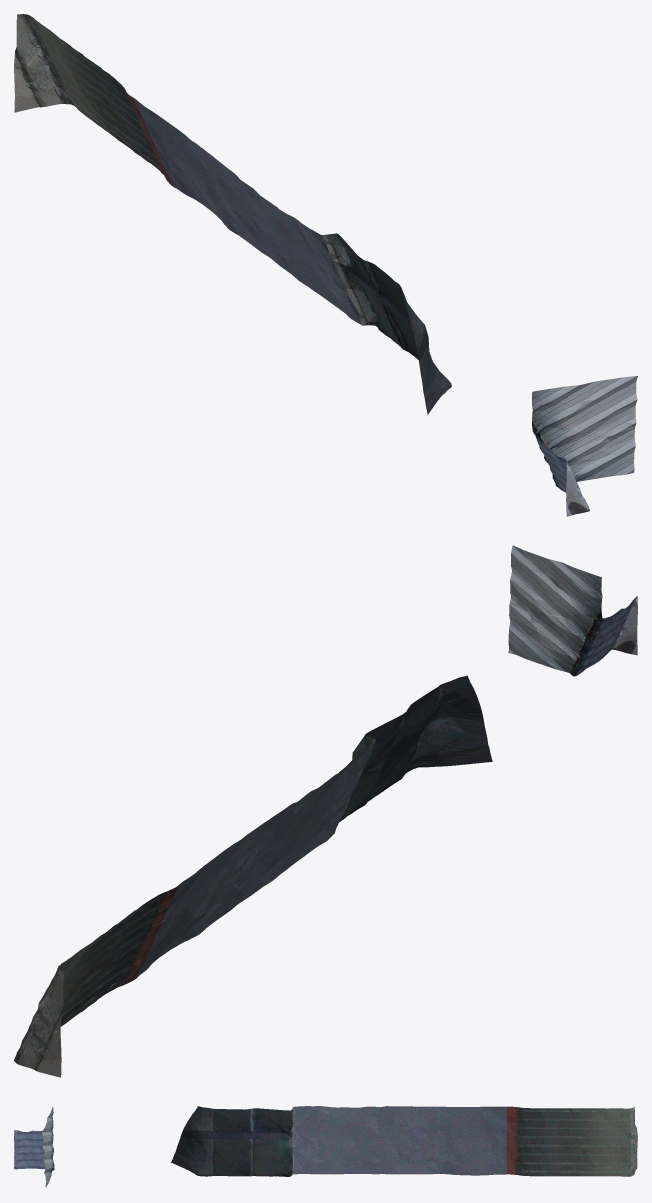
The model's file is Tile_+004_+006_L23_002310.obj.
3 views of the same model, one above another, from view 1: azimuth 30°, elevation 25°; view 2: azimuth 150°, elevation 25°; view 3: azimuth 270°, elevation 25° (orthographic). The views are drawn at different scales.
Bounding box in the file's own units: 1.91 × 1.91 × 19.09.
1 material, 1 textured.
